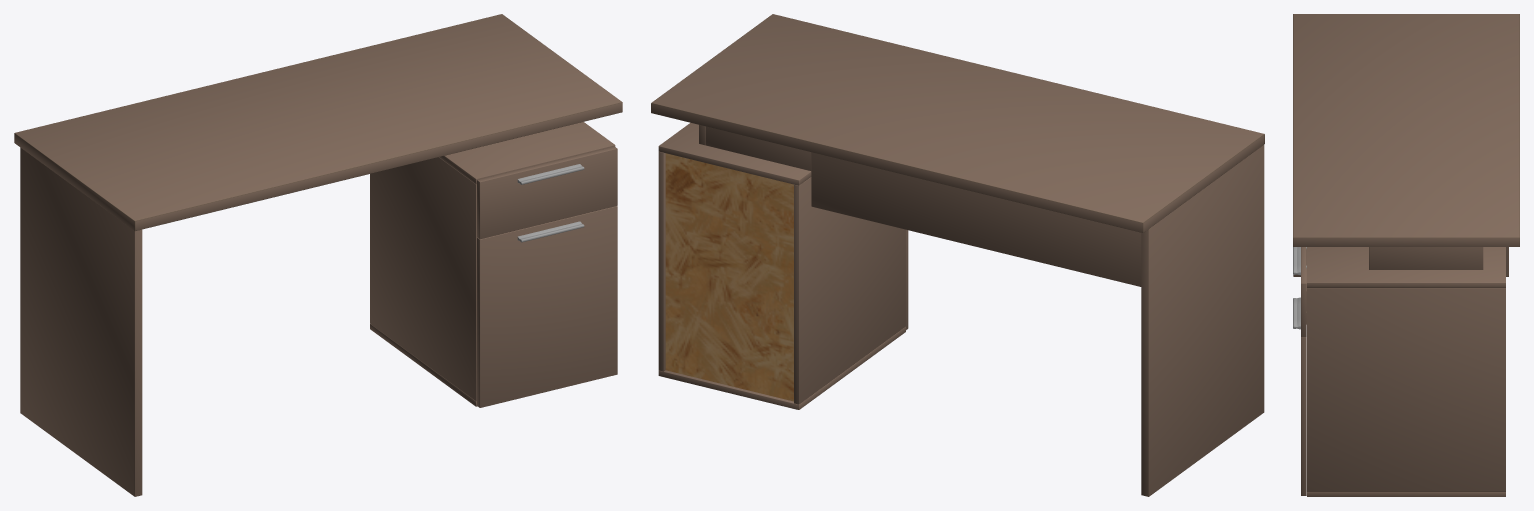
The picture shows the model from 3 angles, left to right: view 1: azimuth 30°, elevation 25°; view 2: azimuth 150°, elevation 25°; view 3: azimuth 270°, elevation 25°; orthographic projection. The views are drawn at different scales.
Parts seen in each view (by area): view 1: #TBL0003_Desk_140x60_Gray_2, Cube.005_1, Cube.004_0; view 2: #TBL0003_Desk_140x60_Gray_2; view 3: #TBL0003_Desk_140x60_Gray_2, Cube.005_1, Cube.004_0.
Boxes of the visible parts, <box> form: #TBL0003_Desk_140x60_Gray_2: <box>14,14,622,496</box>; Cube.005_1: <box>477,206,617,407</box>; Cube.004_0: <box>477,146,617,239</box>; #TBL0003_Desk_140x60_Gray_2: <box>651,14,1264,496</box>; #TBL0003_Desk_140x60_Gray_2: <box>1293,14,1519,496</box>; Cube.005_1: <box>1293,297,1306,495</box>; Cube.004_0: <box>1293,247,1306,337</box>.
Size of the model in its own units: 1.4 by 0.757 by 0.6.
Materials: 7 (1 with a texture image).
